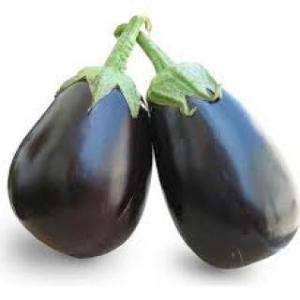eggplant: (147, 65, 297, 267), (12, 62, 154, 258)
